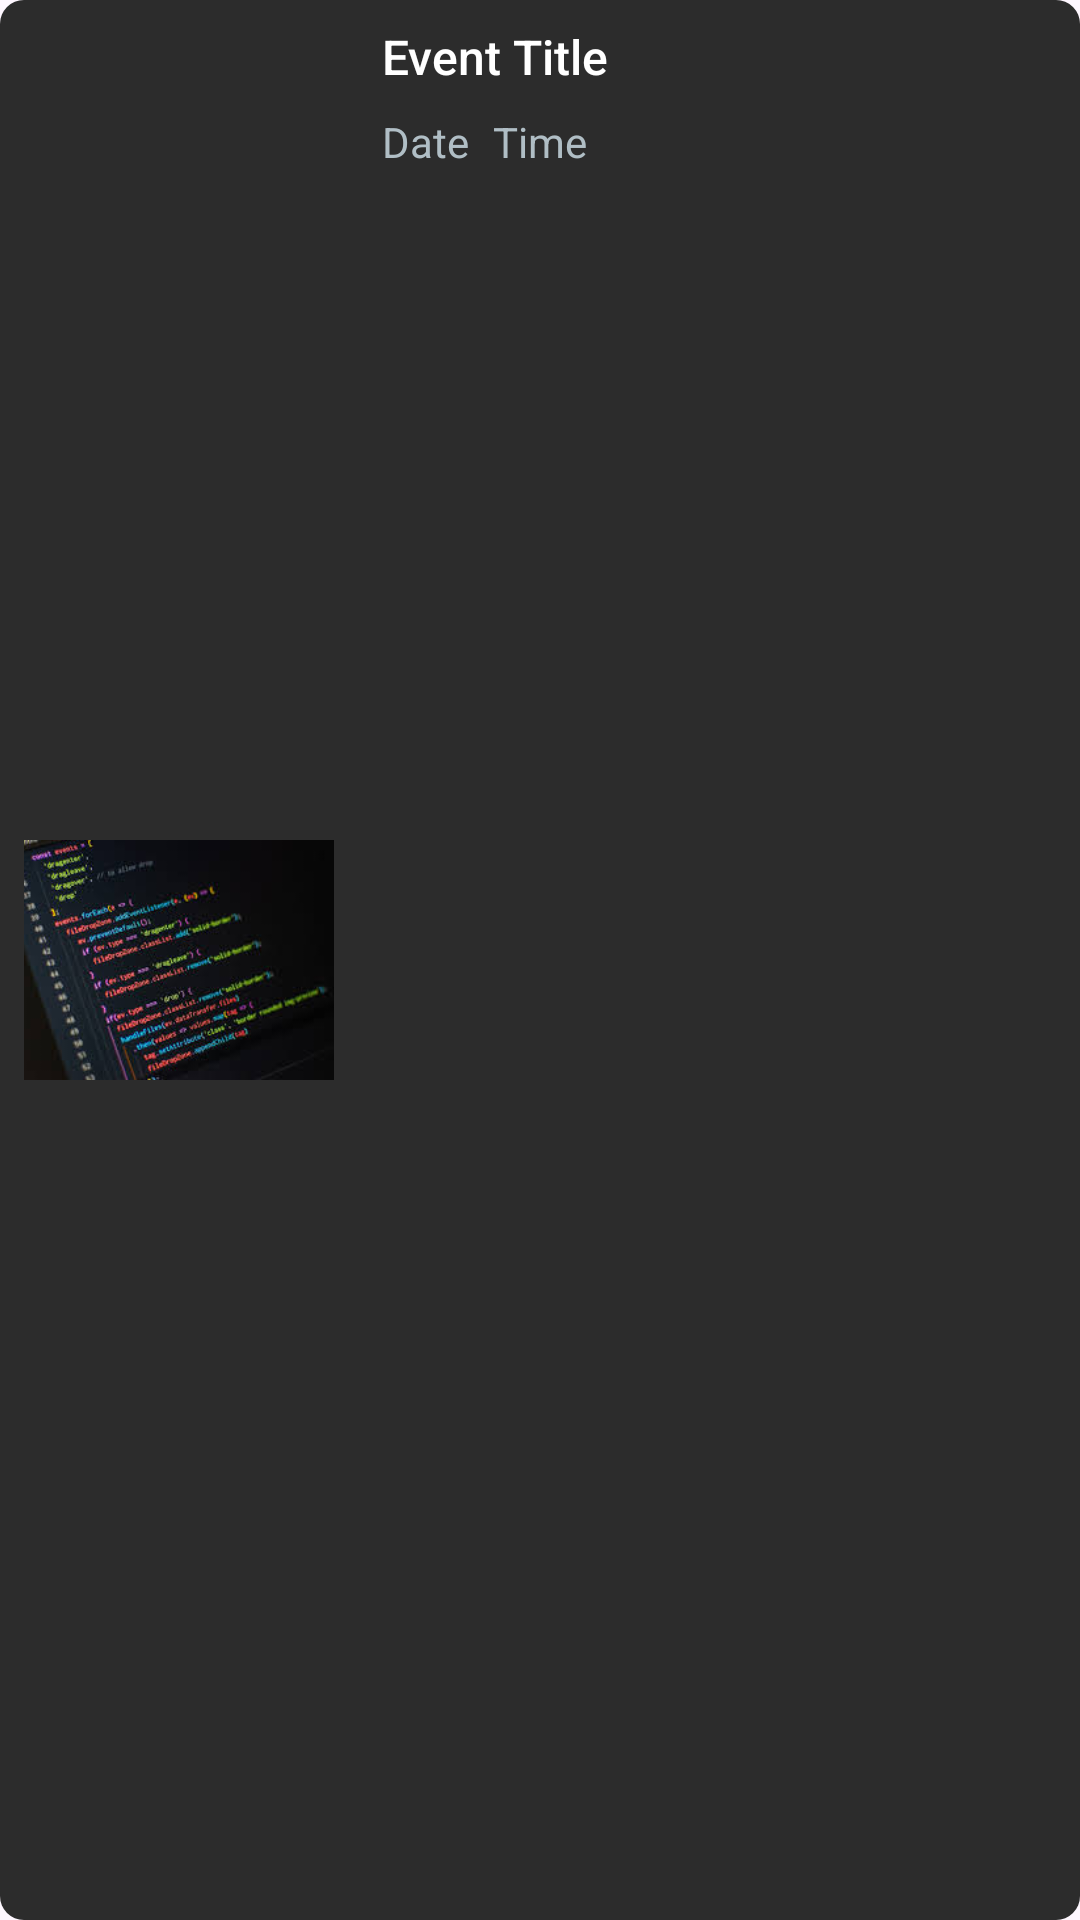

Point at icon controls on the screen. Image size 1080x1920, points as point (x, y).
codeboot: point (179, 960)
